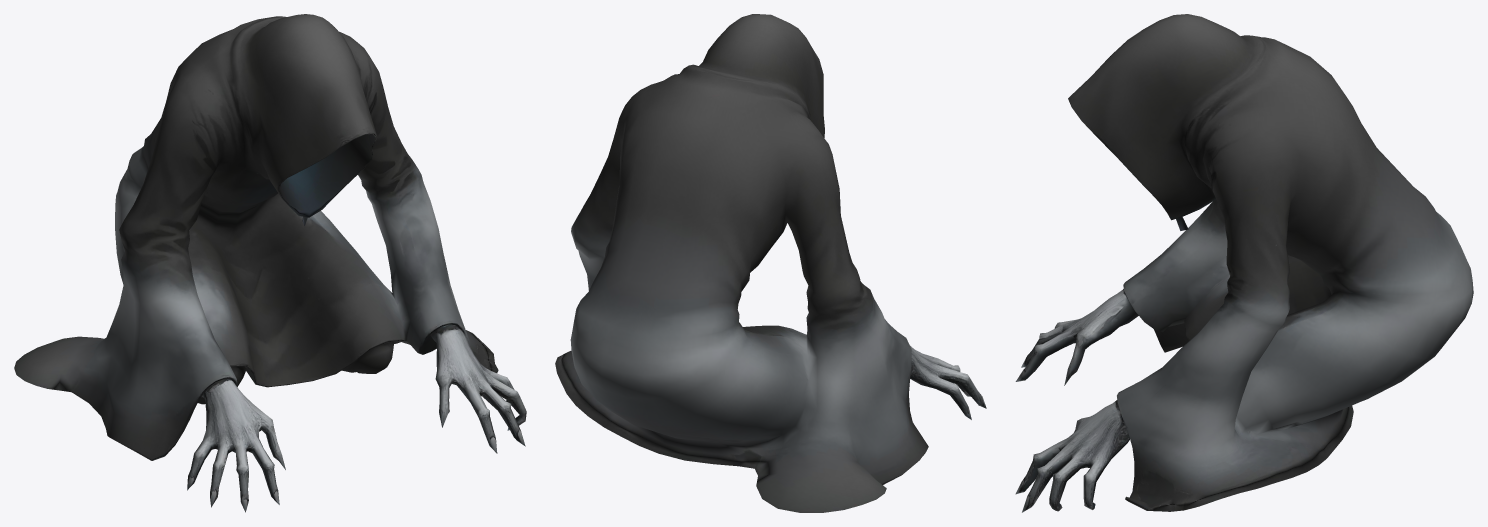
Rendered from selected.glb.
3 renders of one model, left to right at view 1: azimuth 30°, elevation 25°; view 2: azimuth 150°, elevation 25°; view 3: azimuth 270°, elevation 25°, orthographic. The views are drawn at different scales.
Visible parts, largest first — view 1: tripo_node_852c5619-357b-4014-a2e1-e96c8326b240; view 2: tripo_node_852c5619-357b-4014-a2e1-e96c8326b240; view 3: tripo_node_852c5619-357b-4014-a2e1-e96c8326b240.
Part boxes in pixels (x1,y1,x2,y2): tripo_node_852c5619-357b-4014-a2e1-e96c8326b240: [14, 14, 526, 512]; tripo_node_852c5619-357b-4014-a2e1-e96c8326b240: [555, 14, 986, 512]; tripo_node_852c5619-357b-4014-a2e1-e96c8326b240: [1015, 14, 1473, 512].
Bounding box in the file's own units: 0.998 × 0.9902 × 0.9707.
Materials: 1 (1 with a texture image).
